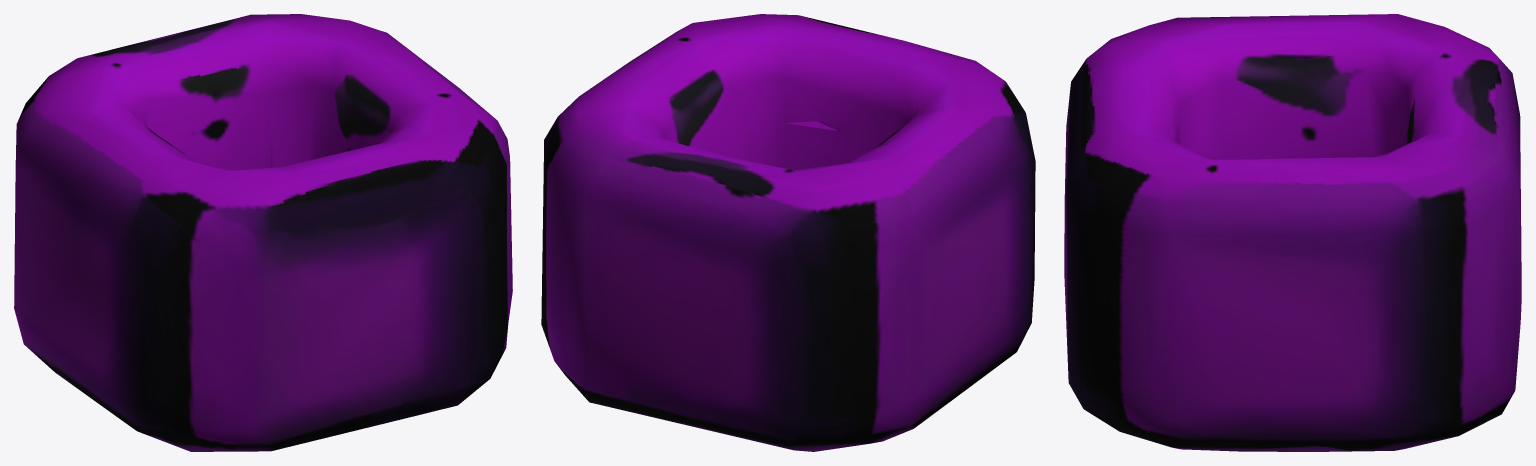
Rendered from paintball-bunker.glb.
The picture shows the model from 3 angles, left to right: view 1: azimuth 30°, elevation 25°; view 2: azimuth 150°, elevation 25°; view 3: azimuth 270°, elevation 25°; orthographic projection. The views are drawn at different scales.
Parts seen in each view (by area): view 1: geometry_0.001; view 2: geometry_0.001; view 3: geometry_0.001.
Boxes of the visible parts, x1,y1,x2,y2 form: geometry_0.001: (14,14,512,451); geometry_0.001: (541,14,1035,451); geometry_0.001: (1064,14,1521,451).
Size of the model in its own units: 0.9972 by 0.6827 by 0.9998.
1 material, 1 textured.
